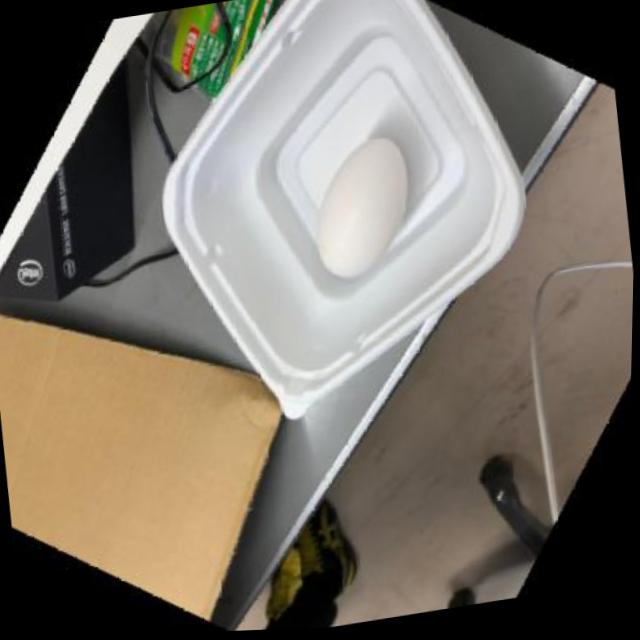egg: (303, 132, 428, 292)
